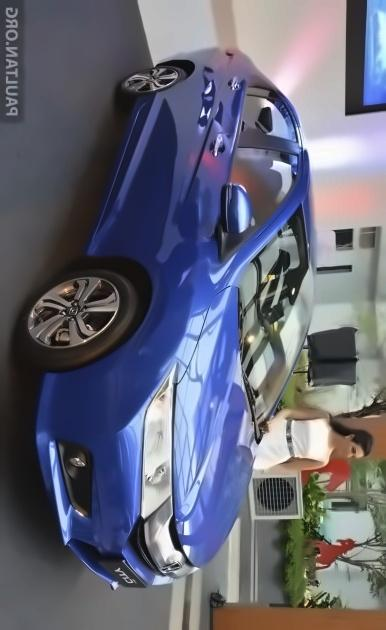Car hood: (172, 286, 266, 569)
Driver-s door - -F-R-: (100, 130, 316, 270)
Fender - -F-R-: (86, 246, 253, 364)
Fender - -R-R-: (123, 63, 295, 107)
Front bumper: (29, 360, 162, 595)
Headlight - -R-: (132, 360, 190, 532)
Passenger-s door - -R-R-: (130, 79, 317, 154)
Rear bumper: (150, 40, 210, 65)
Rear light - -L-: (206, 30, 252, 78)
Side bumper - -R-: (79, 74, 162, 273)
Side mirror - -R-: (209, 162, 260, 246)
